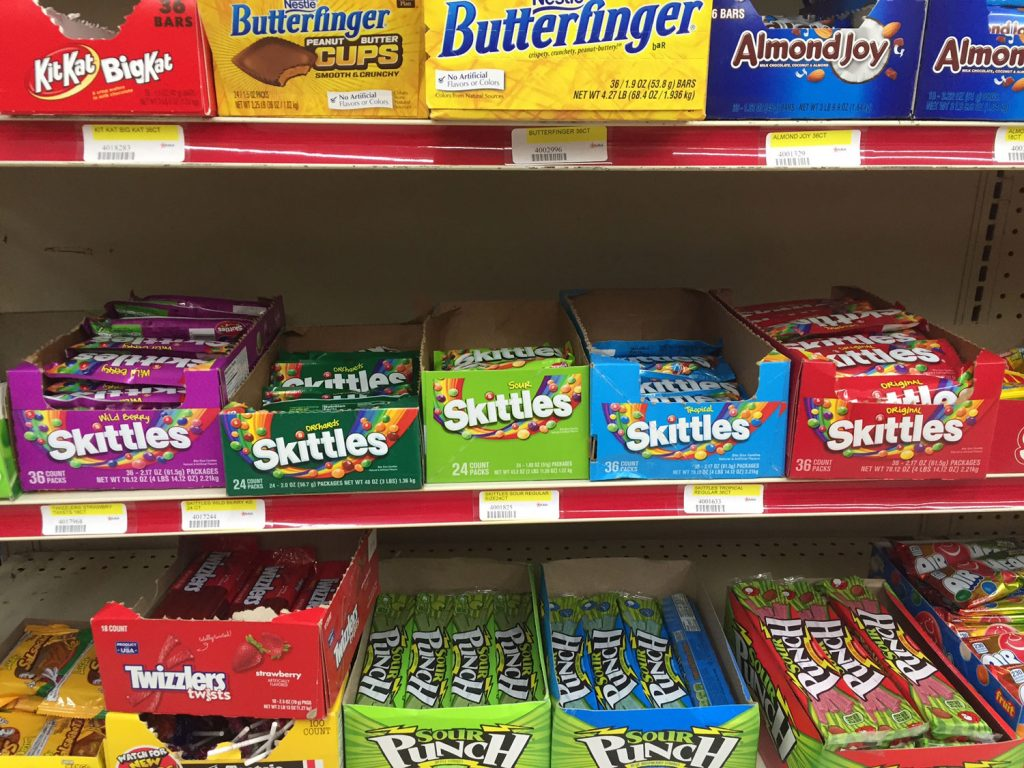Skittles: (424, 367, 590, 479)
